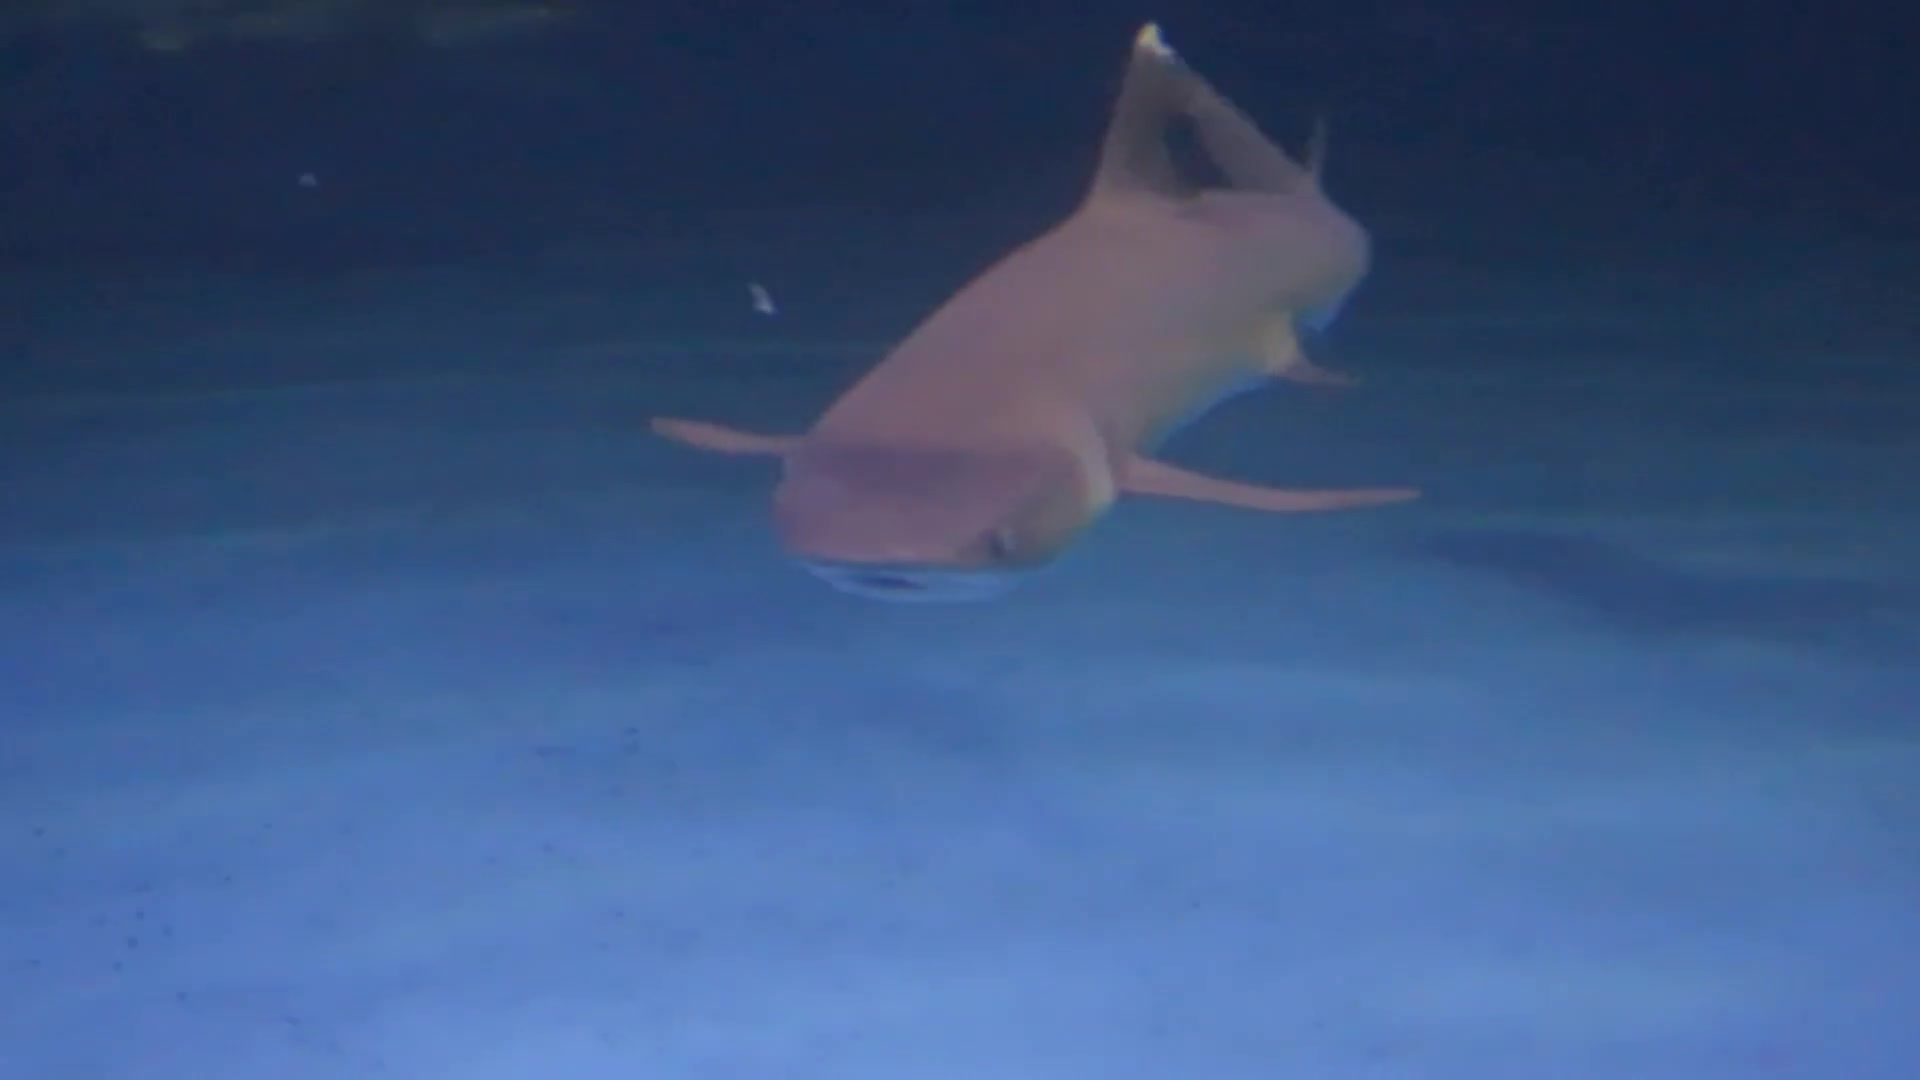Triaenodon obesus: (597, 1, 1437, 616)
